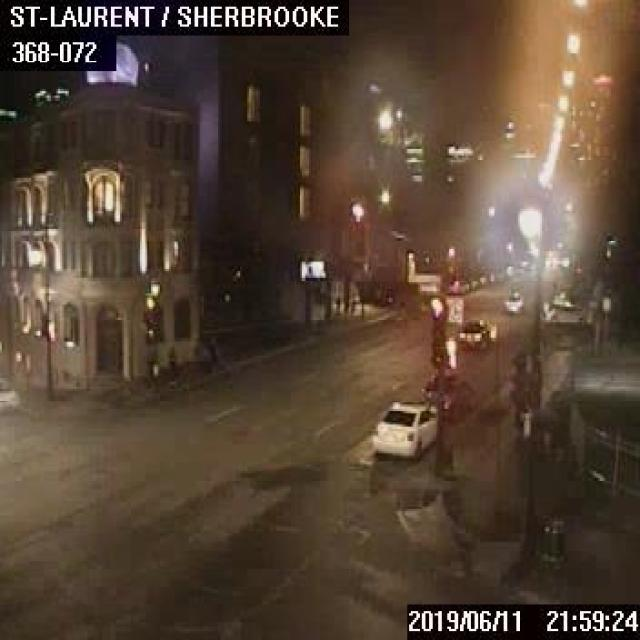pedestrian: (196, 335, 216, 369), (166, 342, 177, 376)
vehicle: (369, 399, 436, 458), (419, 370, 476, 417), (457, 316, 495, 350), (541, 294, 582, 322), (0, 371, 20, 413), (502, 288, 524, 311)
